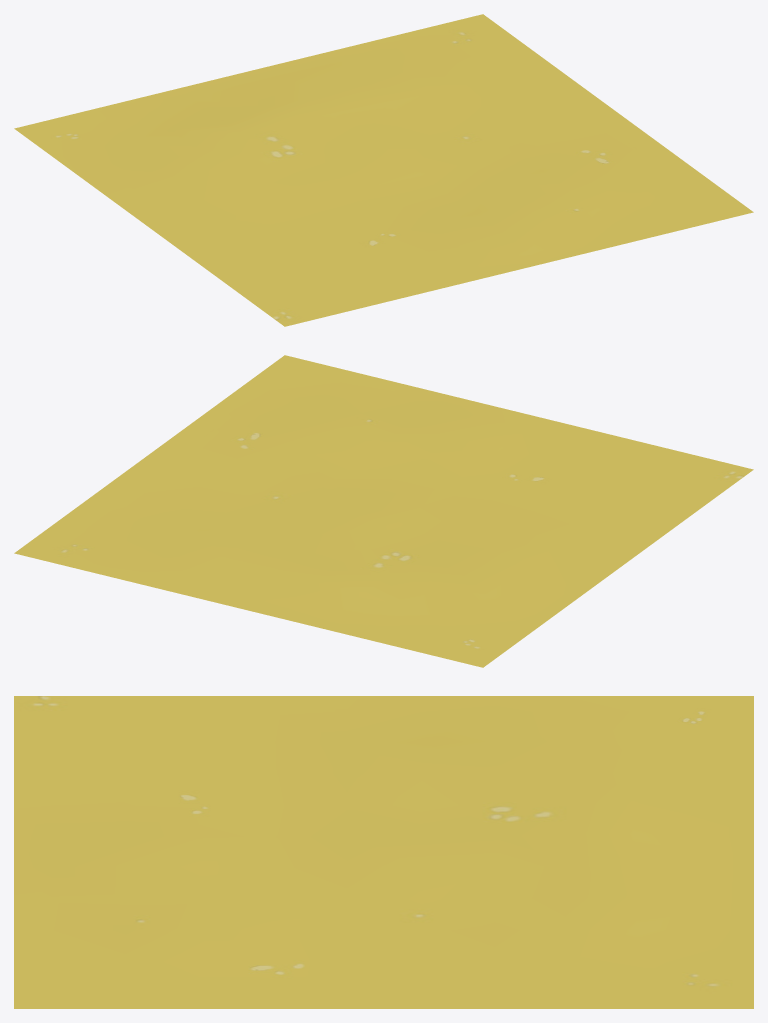
Rendered from SandPlane_Large_Flat.fbx.
3 renders of one model, top to bottom at view 1: azimuth 30°, elevation 25°; view 2: azimuth 150°, elevation 25°; view 3: azimuth 270°, elevation 25°, orthographic. The views are drawn at different scales.
Visible parts, largest first — view 1: SandPlane_Large_Flat; view 2: SandPlane_Large_Flat; view 3: SandPlane_Large_Flat.
Part boxes in pixels (x1,y1,x2,y2): SandPlane_Large_Flat: (14, 14, 753, 326); SandPlane_Large_Flat: (14, 355, 753, 667); SandPlane_Large_Flat: (14, 696, 753, 1008).
Size of the model in its own units: 4000 by 4000 by 22.8.
Materials: 1 (1 with a texture image).
